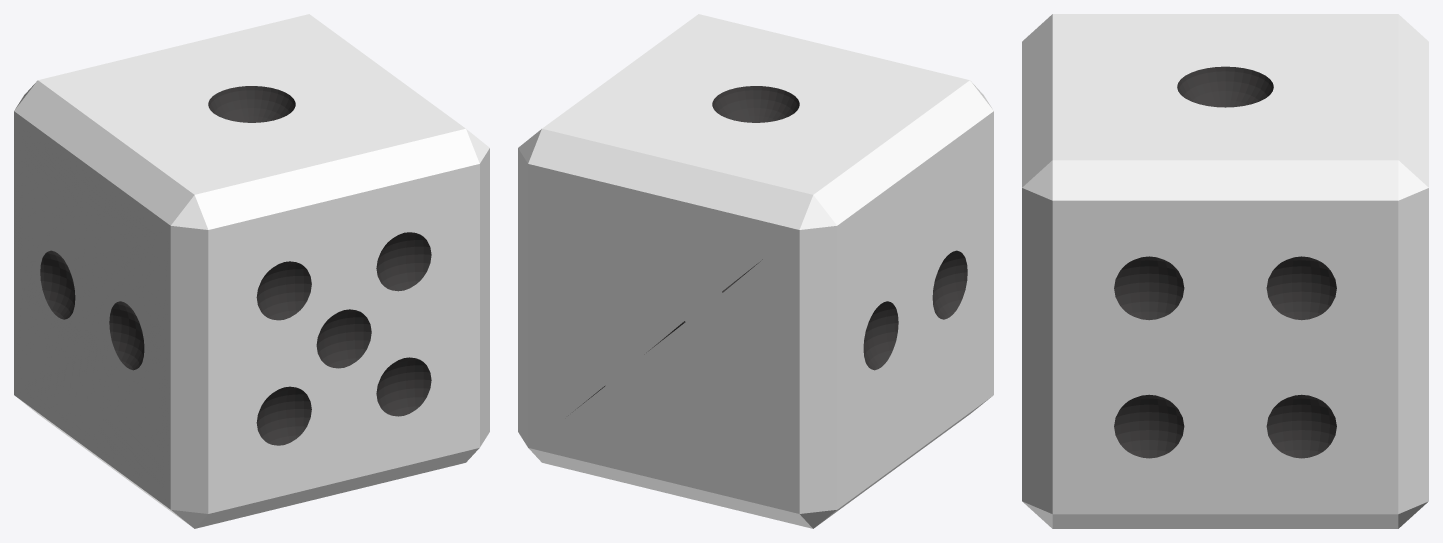
The model's file is Dice.fbx.
The picture shows the model from 3 angles, left to right: view 1: azimuth 30°, elevation 25°; view 2: azimuth 150°, elevation 25°; view 3: azimuth 270°, elevation 25°; orthographic projection. The views are drawn at different scales.
Parts seen in each view (by area): view 1: Dice; view 2: Dice; view 3: Dice.
Part boxes in pixels (<box>): Dice: <box>14,14,489,528</box>; Dice: <box>518,14,993,528</box>; Dice: <box>1022,14,1428,528</box>.
Bounding box in the file's own units: 200 × 200 × 200.
